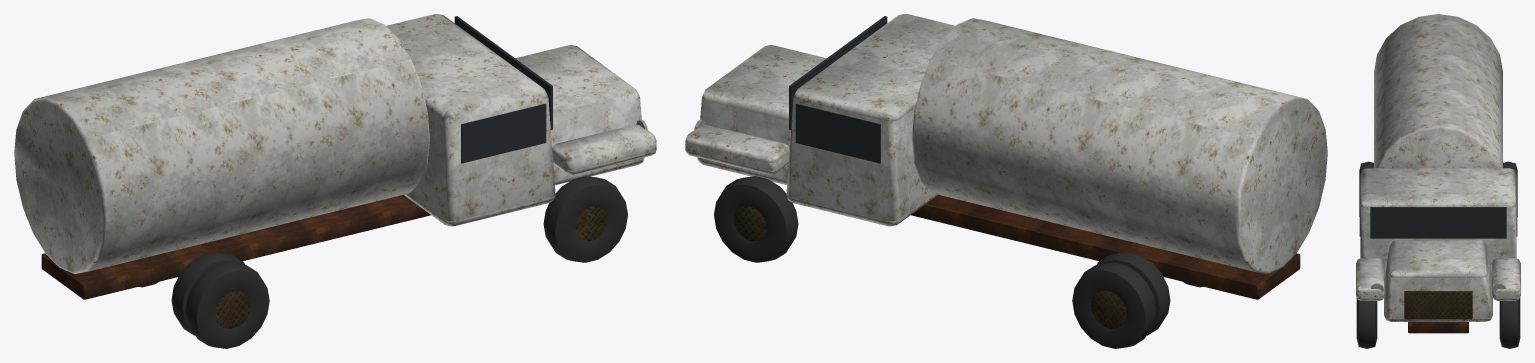
File: veh_truck_tanker.gltf
3 views of the same model, side by side, from view 1: azimuth 30°, elevation 25°; view 2: azimuth 150°, elevation 25°; view 3: azimuth 270°, elevation 25° (orthographic). The views are drawn at different scales.
Visible parts, largest first — view 1: cyl.002, box.004, box, box.001, torus, torus.002, box.006, box.002, torus.003, box.005, cyl.005, cyl.003; view 2: cyl.002, box.004, box, box.001, torus.001, torus.004, box.007, box.003, torus.005, box.005, cyl.007, cyl.004; view 3: cyl.002, box.004, box.001, box.005, box.008, box.002, box.003, torus, torus.001, box, torus.002, torus.004.
Boxes of the visible parts, x1,y1,x2,y2 form: cyl.002: (14,18,429,273); box.004: (386,14,555,226); box: (41,195,430,299); box.001: (515,45,644,185); torus: (543,176,627,262); torus.002: (185,262,269,348); box.006: (461,103,546,163); box.002: (552,124,656,174); torus.003: (171,252,244,335); box.005: (454,16,552,129); cyl.005: (215,290,250,328); cyl.003: (575,206,607,241); cyl.002: (912,18,1327,273); box.004: (786,14,955,226); box: (911,195,1300,299); box.001: (697,45,826,185); torus.001: (714,176,798,262); torus.004: (1072,262,1156,348); box.007: (795,103,880,163); box.003: (685,124,789,174); torus.005: (1097,252,1170,335); box.005: (789,16,887,129); cyl.007: (1091,290,1126,328); cyl.004: (734,206,766,241); cyl.002: (1374,14,1502,168); box.004: (1360,168,1516,277); box.001: (1384,240,1492,321); box.005: (1370,207,1506,238); box.008: (1404,291,1472,319); box.002: (1356,258,1384,300); box.003: (1492,258,1520,300); torus: (1356,297,1377,348); torus.001: (1499,297,1520,348); box: (1408,321,1468,333); torus.002: (1359,161,1373,216); torus.004: (1503,161,1517,216).
Size of the model in its own units: 6.69 by 2.71 by 2.42.
6 materials, 3 textured.
